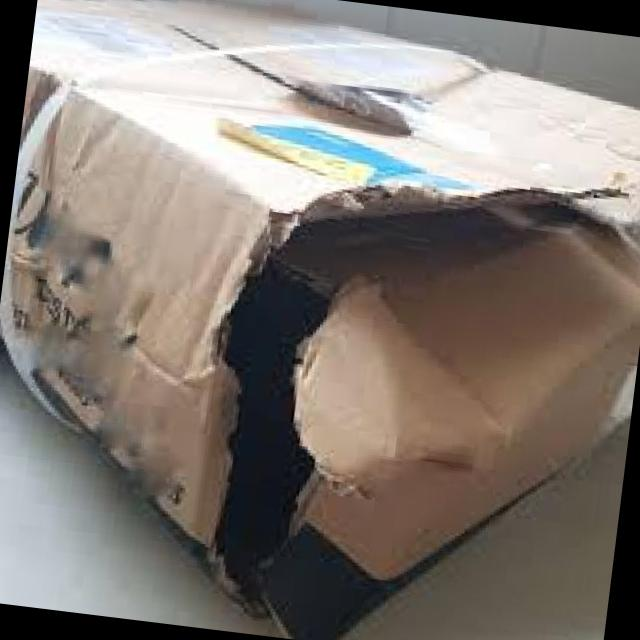tear: (178, 184, 615, 630)
